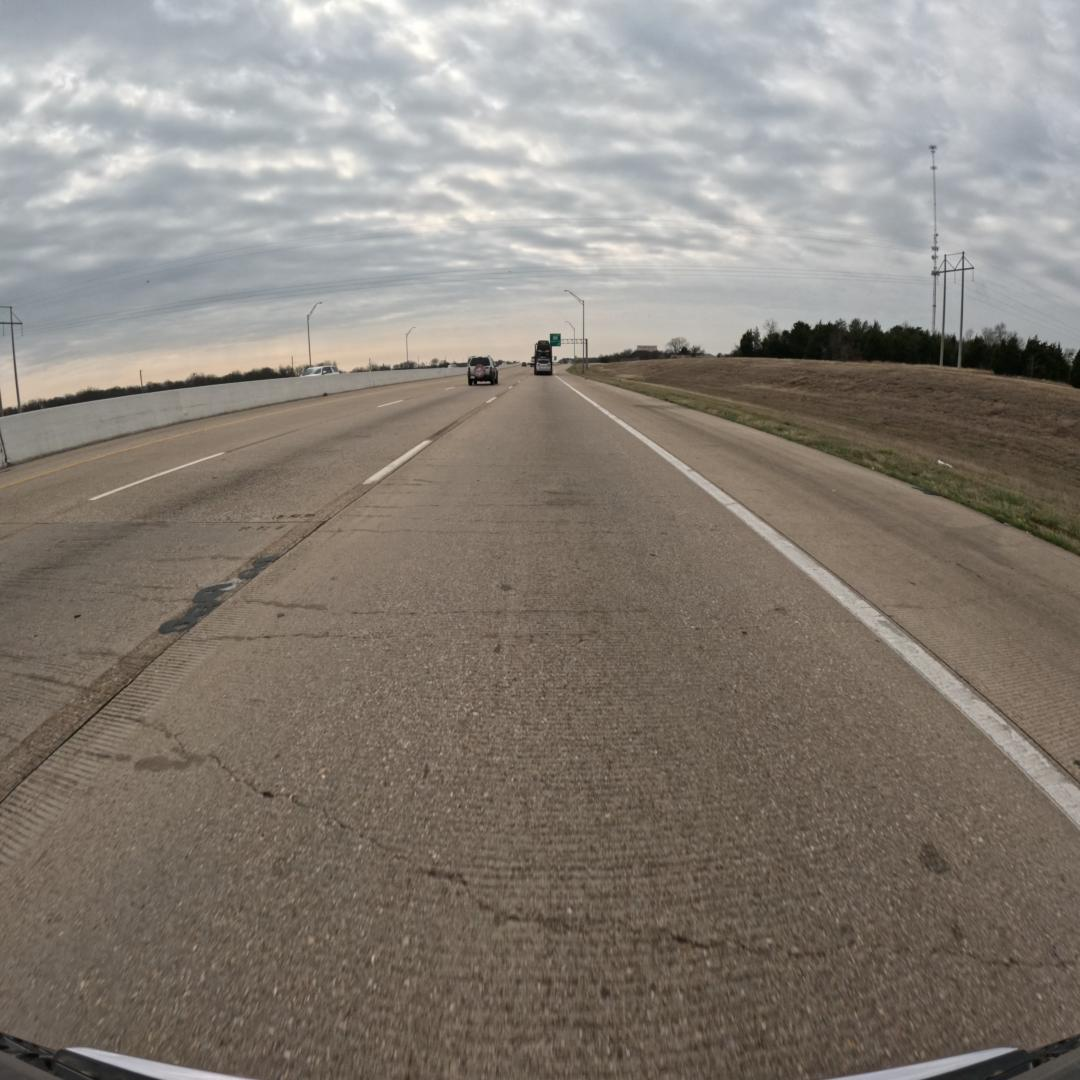lane0: (0, 378, 1080, 1077)
lane1: (0, 386, 513, 801)
